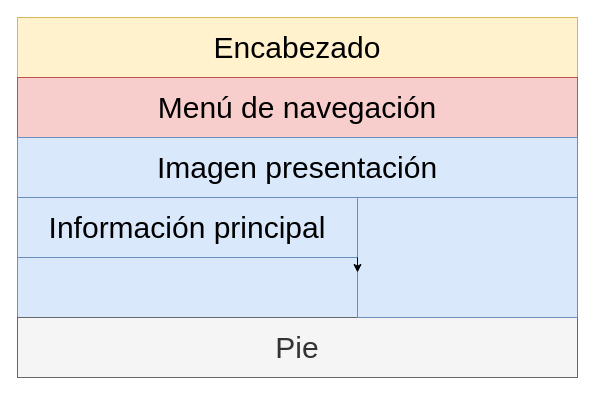
This 595x395 diagram has some shape labels left out. Here are the shapes that lost their labels. From the top down, the centre of each, then its label:
At point 467,257: "Información secundaria".
At point 187,287: "Información multimedia".
